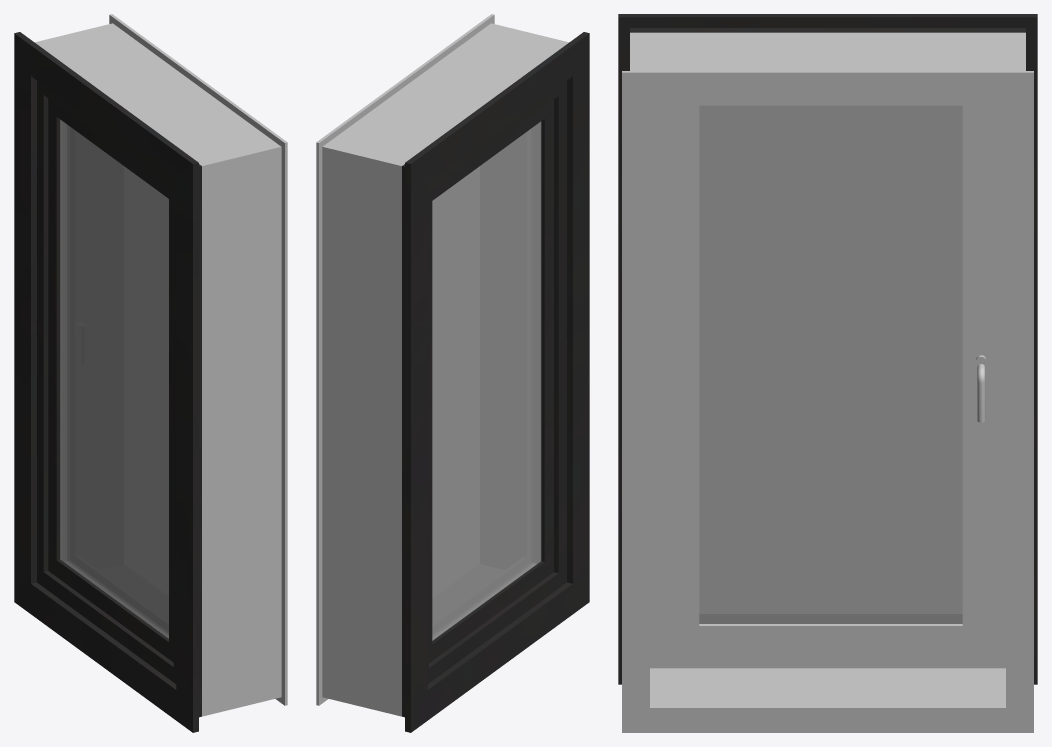
The model's file is Window 10x18.fbx.
3 views of the same model, side by side, from view 1: azimuth 30°, elevation 25°; view 2: azimuth 150°, elevation 25°; view 3: azimuth 270°, elevation 25° (orthographic). The views are drawn at different scales.
Parts seen in each view (by area): view 1: Group4, Group5, Group2, Group3; view 2: Group4, Group5, Group2, Group3; view 3: Group4, Group3, Group2, Group5.
Part boxes in pixels (x1,y1,x2,y2): Group4: (35,14,287,716); Group5: (14,32,201,732); Group2: (60,119,168,638); Group3: (67,125,168,634); Group4: (316,14,568,716); Group5: (402,32,589,732); Group2: (432,121,541,640); Group3: (433,127,533,635); Group4: (622,32,1033,732); Group3: (699,105,962,623); Group2: (700,106,961,623); Group5: (618,14,1037,684).
Bounding box in the file's own units: 330 × 1860 × 1060.
